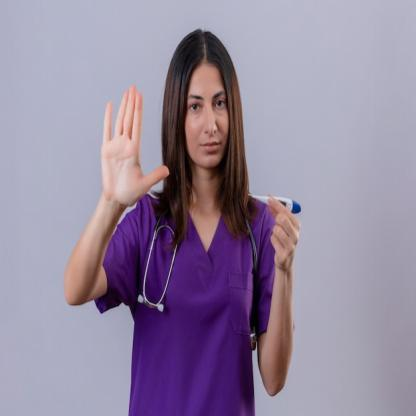stop: (99, 78, 173, 210)
